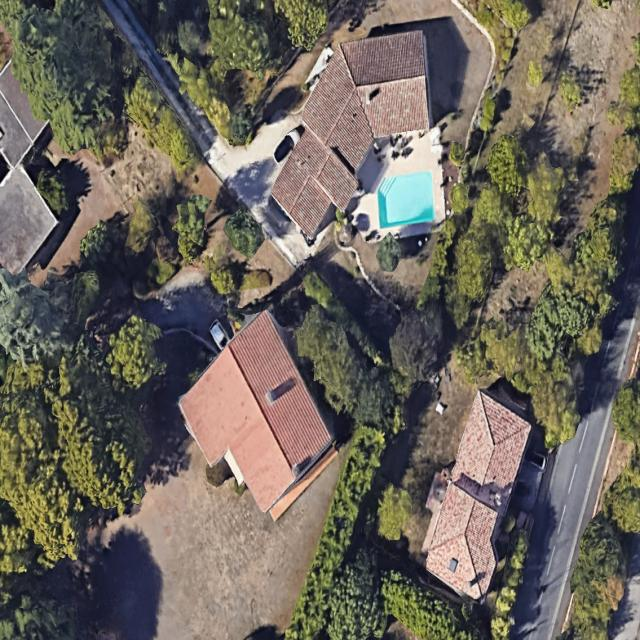maison: (225, 0, 477, 241), (159, 306, 375, 522), (416, 385, 538, 601)
